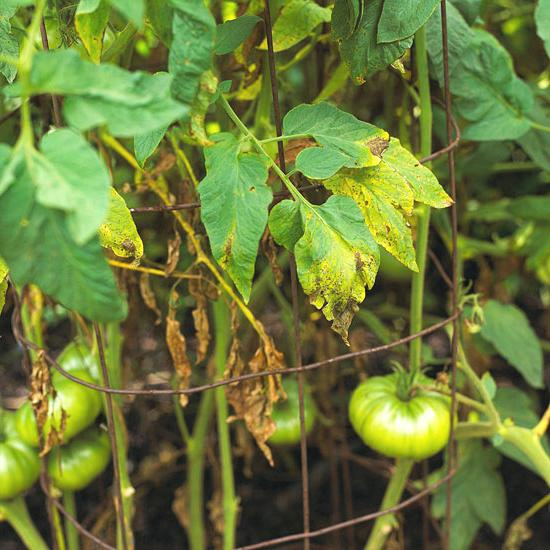Tomato Septoria leaf spot: (294, 199, 383, 342), (322, 151, 419, 278), (346, 123, 460, 221)
